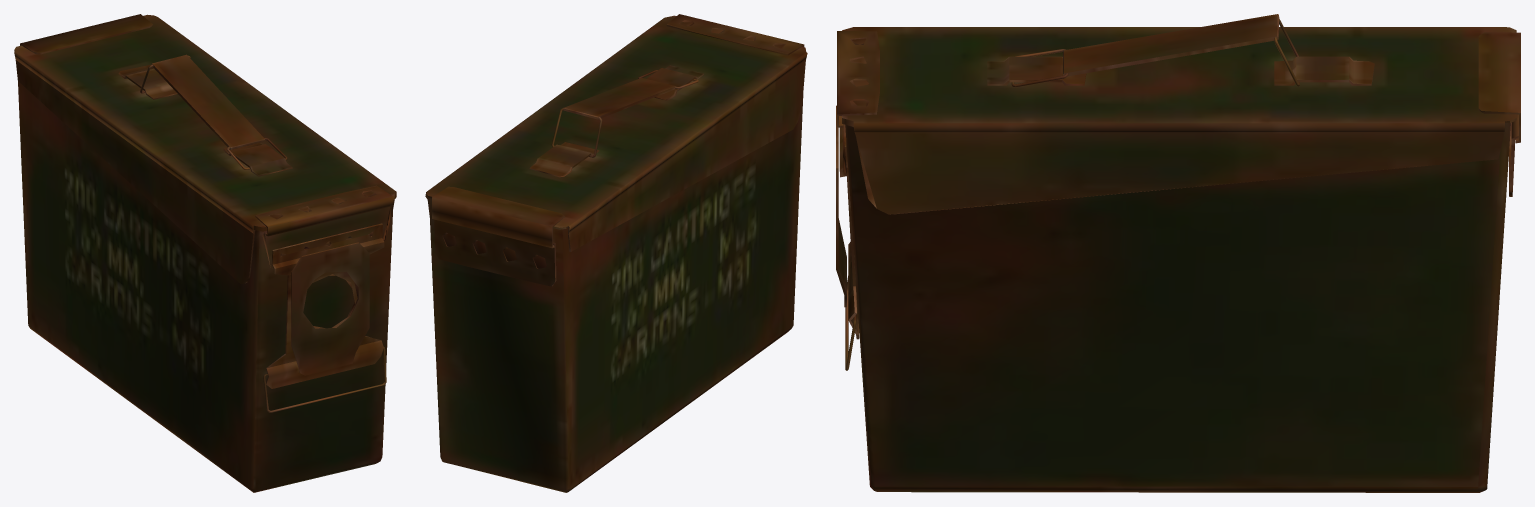
The model's file is ammo_box.glb.
The picture shows the model from 3 angles, left to right: view 1: azimuth 30°, elevation 25°; view 2: azimuth 150°, elevation 25°; view 3: azimuth 270°, elevation 25°; orthographic projection. The views are drawn at different scales.
Visible parts, largest first — view 1: ammo_box, ammo_box_handle, ammo_box_latch; view 2: ammo_box, ammo_box_handle; view 3: ammo_box, ammo_box_handle.
Boxes of the visible parts, x1,y1,x2,y2 form: ammo_box: [14, 14, 396, 492]; ammo_box_handle: [151, 54, 265, 149]; ammo_box_latch: [263, 347, 386, 412]; ammo_box: [425, 14, 807, 492]; ammo_box_handle: [563, 78, 676, 119]; ammo_box: [836, 27, 1520, 492]; ammo_box_handle: [1063, 14, 1279, 76].
Size of the model in its own units: 0.086 by 0.1773 by 0.2576.
1 material, 1 textured.
